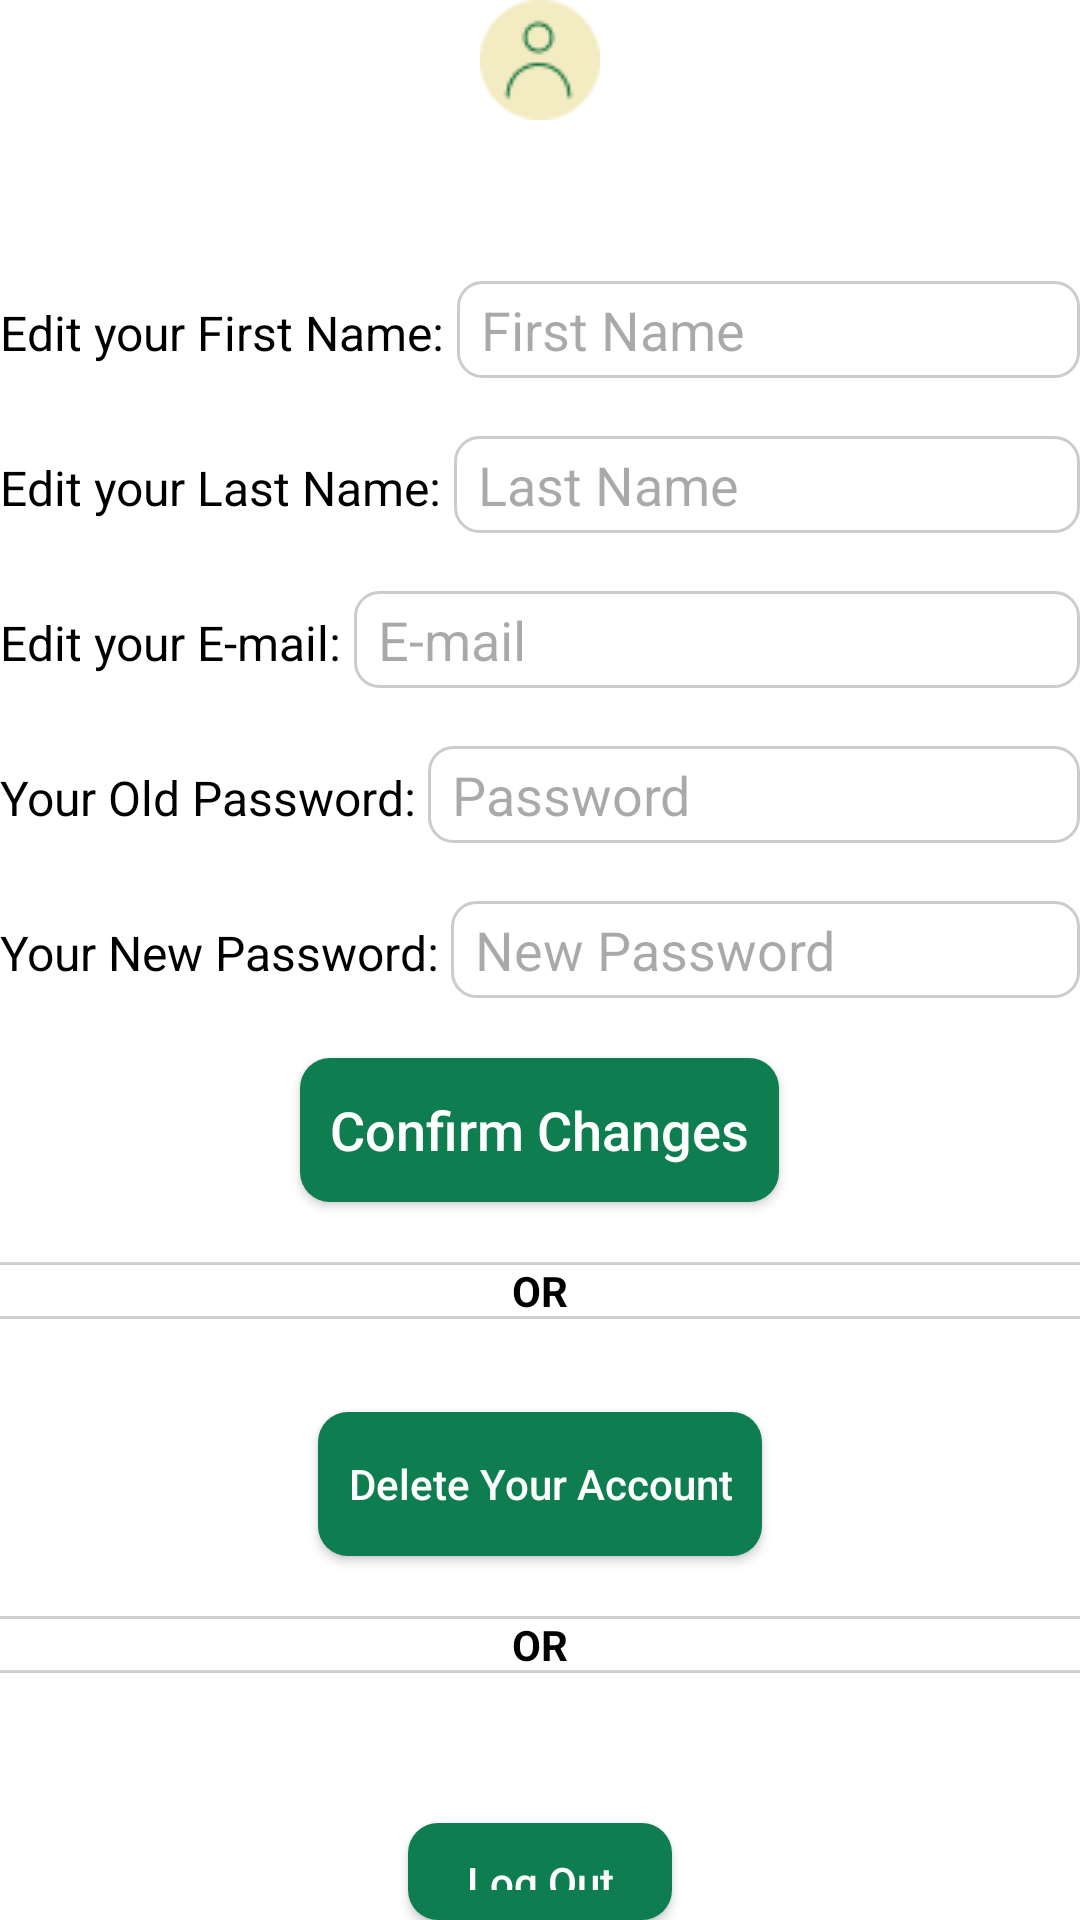

Icon click points for this 1080 x 1920 phone screenshot, format (x,y):
profile: (540,60)
